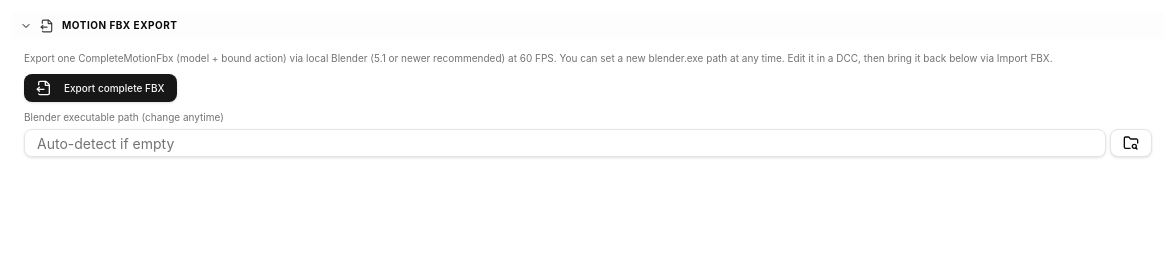
it: MotionFbxExportPanel › exports complete motion FBX through the Rust command after save dialog
Click the button "Export complete FBX" at (100, 88), box [24, 74, 176, 102]
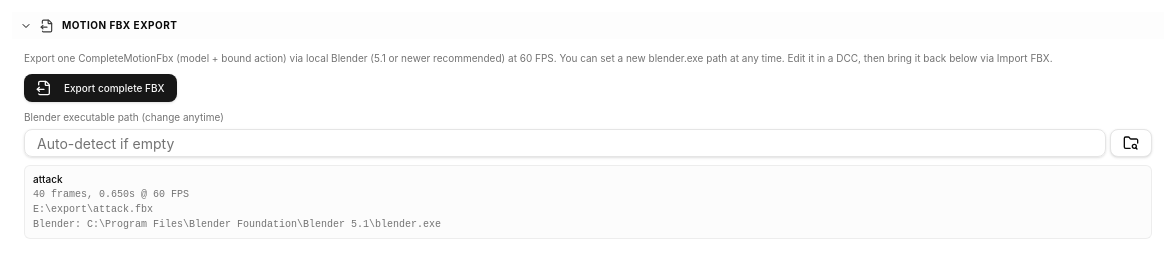
Expected: the text "40 frames, 0.650s @ 60 FPS" is shown, [33, 189, 189, 200]
